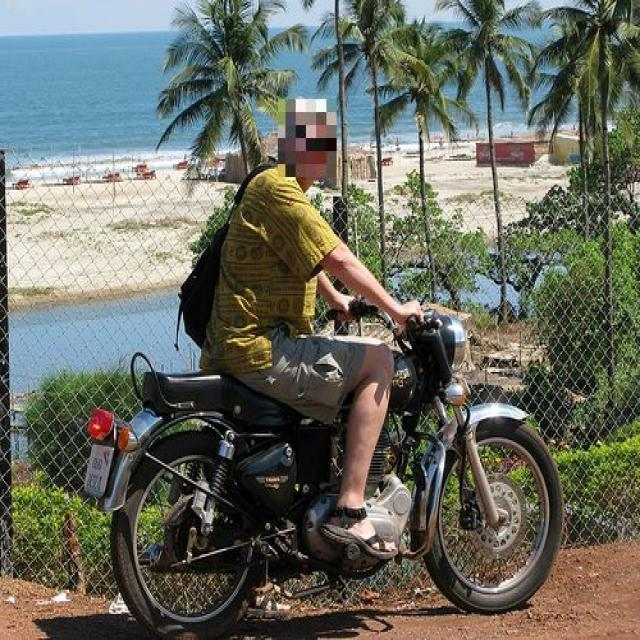Motorbike: (72, 293, 581, 640)
